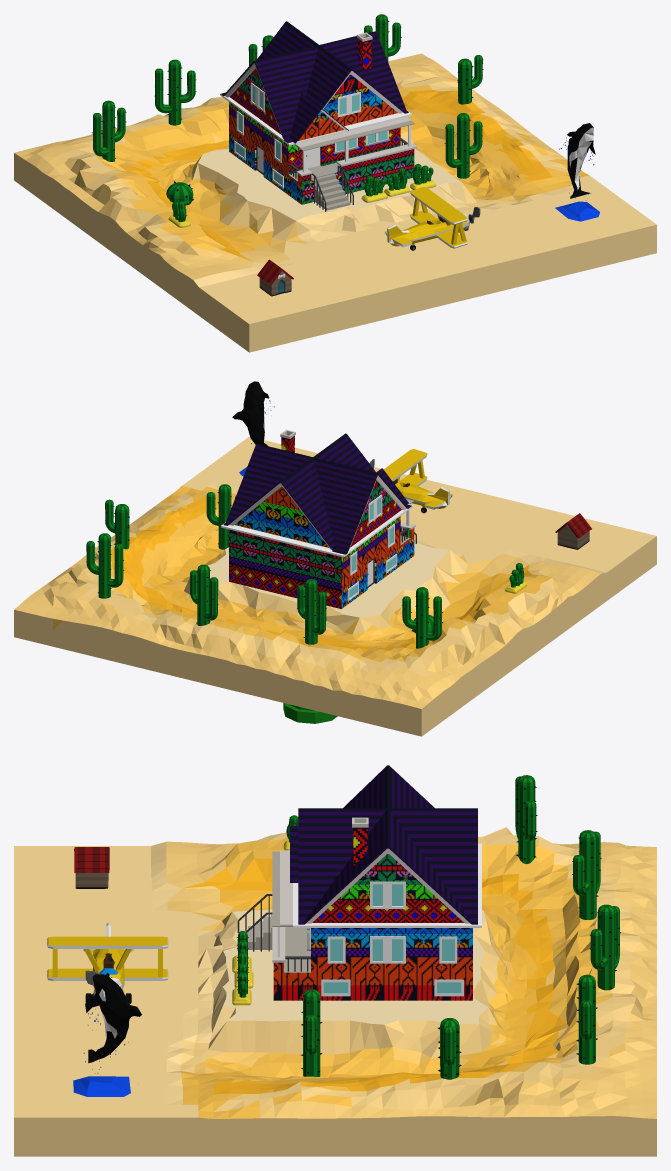
3 views of the same model, one above another, from view 1: azimuth 30°, elevation 25°; view 2: azimuth 150°, elevation 25°; view 3: azimuth 270°, elevation 25° (orthographic). The views are drawn at different scales.
Parts seen in each view (by area): view 1: Cube.001, Cube.966, VEHICLES_AIRPLANE, ANIMAL_ORCA, Cylinder.044, Cylinder.037, Cylinder.045, Cylinder.038, OBJRANDOM_DOGHOUSE, Cylinder.042, Cylinder.039, Sphere.023 (+1 smaller); view 2: Cube.001, Cube.966, VEHICLES_AIRPLANE, Cylinder.042, Cylinder.045, Cylinder.044, Cylinder.043, ANIMAL_ORCA, Cylinder.037, Cylinder.038, OBJRANDOM_DOGHOUSE, UNDERGROUND_PIPES; view 3: Cube.001, Cube.966, VEHICLES_AIRPLANE, ANIMAL_ORCA, Cylinder.043, Cylinder.044, Cylinder.045, Cylinder.042, Cylinder.037, OBJRANDOM_DOGHOUSE, Cylinder.038, Cylinder.041.
Part boxes in pixels (x1,y1,x2,y2): Cube.001: [14, 53, 656, 352]; Cube.966: [220, 21, 417, 211]; VEHICLES_AIRPLANE: [384, 187, 480, 250]; ANIMAL_ORCA: [555, 123, 599, 221]; Cylinder.044: [154, 59, 196, 125]; Cylinder.037: [444, 113, 482, 178]; Cylinder.045: [92, 100, 126, 161]; Cylinder.038: [457, 55, 483, 104]; OBJRANDOM_DOGHOUSE: [257, 259, 293, 296]; Cylinder.042: [364, 14, 401, 62]; Cylinder.039: [361, 175, 387, 202]; Sphere.023: [166, 181, 193, 205]; Cube.001: [14, 436, 656, 736]; Cube.966: [221, 430, 416, 608]; VEHICLES_AIRPLANE: [369, 449, 452, 513]; Cylinder.042: [86, 533, 123, 598]; Cylinder.045: [402, 587, 442, 648]; Cylinder.044: [297, 579, 326, 644]; Cylinder.043: [190, 564, 218, 625]; ANIMAL_ORCA: [232, 381, 274, 476]; Cylinder.037: [206, 484, 235, 549]; Cylinder.038: [105, 499, 129, 549]; OBJRANDOM_DOGHOUSE: [555, 513, 591, 549]; UNDERGROUND_PIPES: [283, 703, 337, 723]; Cube.001: [14, 827, 656, 1156]; Cube.966: [237, 765, 481, 1000]; VEHICLES_AIRPLANE: [47, 923, 168, 1004]; ANIMAL_ORCA: [73, 973, 141, 1096]; Cylinder.043: [589, 904, 620, 990]; Cylinder.044: [572, 830, 601, 919]; Cylinder.045: [515, 775, 537, 864]; Cylinder.042: [576, 974, 597, 1064]; Cylinder.037: [301, 989, 322, 1076]; OBJRANDOM_DOGHOUSE: [74, 847, 109, 888]; Cylinder.038: [438, 1018, 461, 1079]; Cylinder.041: [232, 963, 251, 1005].
Bounding box in the file's own units: 4002 × 2210 × 4001.
Materials: 41 (6 with a texture image).
